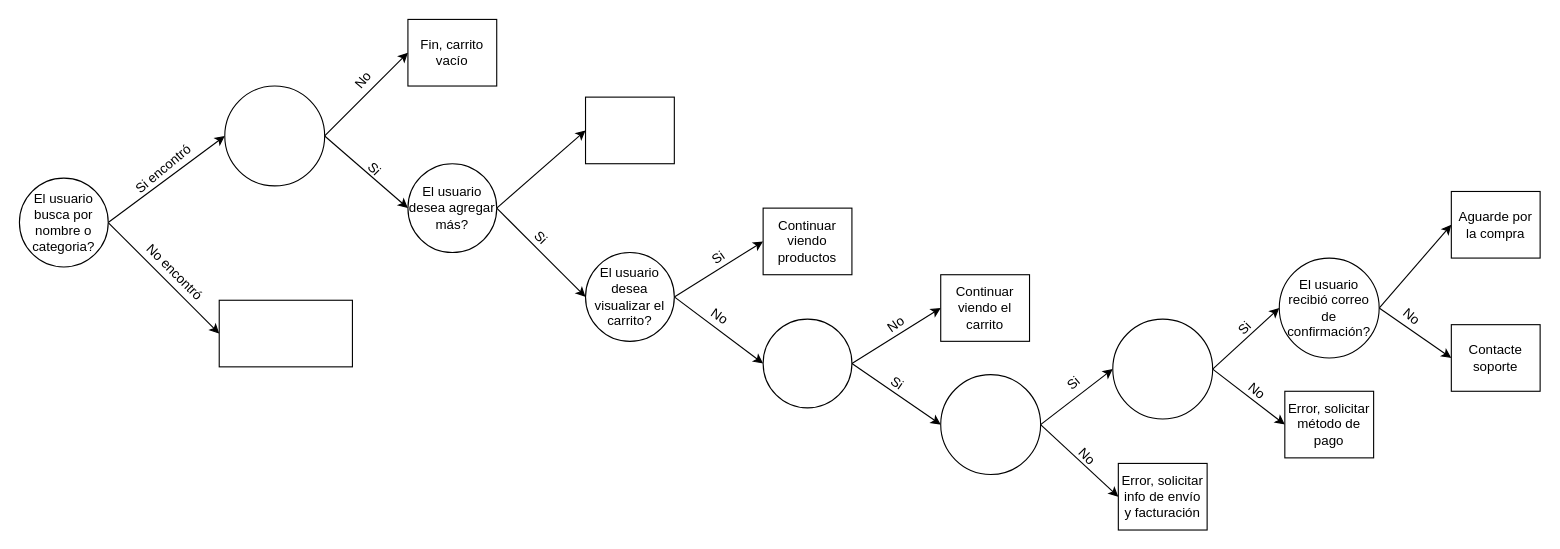
The diagram is 1560 pixels wide and 549 high, and some of its shapes have lost their labels. The centre of each missing label's shape, as x and y in pixels:
El usuario desea agregar al carrito?: the point at 274,135
El usuario desea pasar a parte de pagos?: the point at 807,363
El usuario inserta información de envío y facturación?: the point at 990,424
El usuario selecciona método de pago?: the point at 1162,368
Fin, "Producto no encontrado": the point at 285,333
Seguir viendo productos: the point at 629,130
